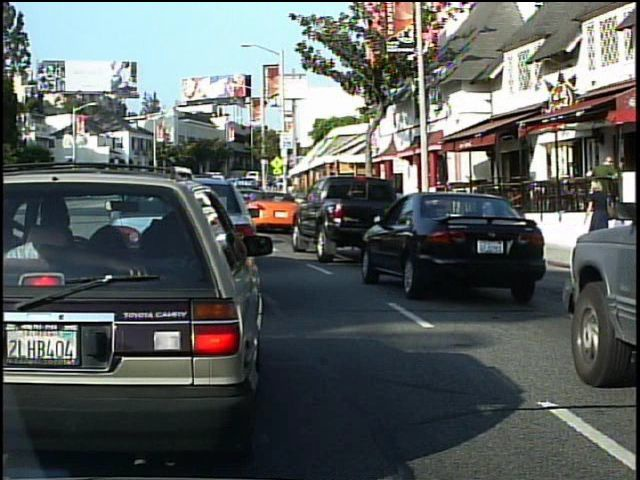person: (585, 175, 621, 260), (588, 149, 623, 234)
